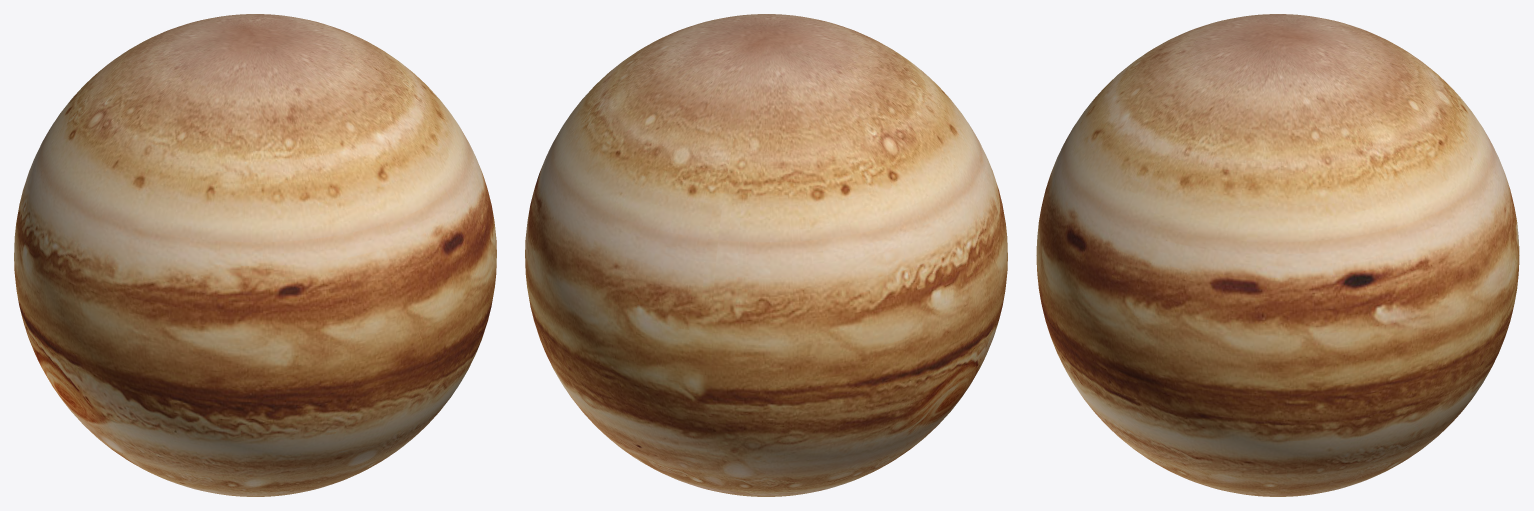
File: jupiter.obj
3 renders of one model, left to right at view 1: azimuth 30°, elevation 25°; view 2: azimuth 150°, elevation 25°; view 3: azimuth 270°, elevation 25°, orthographic.
Parts seen in each view (by area): view 1: Saturn:JupiterFBXASC009 Saturn:cgtsj_com Saturn:group2 Saturn:po; view 2: Saturn:JupiterFBXASC009 Saturn:cgtsj_com Saturn:group2 Saturn:po; view 3: Saturn:JupiterFBXASC009 Saturn:cgtsj_com Saturn:group2 Saturn:po.
Boxes of the visible parts, box(x1,y1,x2,y2) form: Saturn:JupiterFBXASC009 Saturn:cgtsj_com Saturn:group2 Saturn:po: box(14, 14, 496, 496); Saturn:JupiterFBXASC009 Saturn:cgtsj_com Saturn:group2 Saturn:po: box(525, 14, 1007, 496); Saturn:JupiterFBXASC009 Saturn:cgtsj_com Saturn:group2 Saturn:po: box(1036, 14, 1519, 496).
Size of the model in its own units: 219 by 219 by 219.
Materials: 1 (1 with a texture image).
